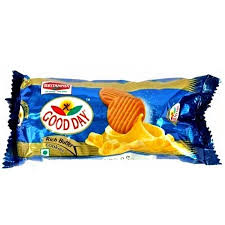gooday-small: (11, 81, 217, 154)
